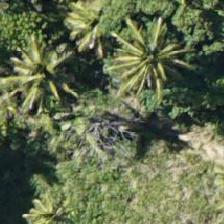coconut_tree: (104, 4, 194, 94), (0, 20, 86, 110), (21, 154, 111, 223)
